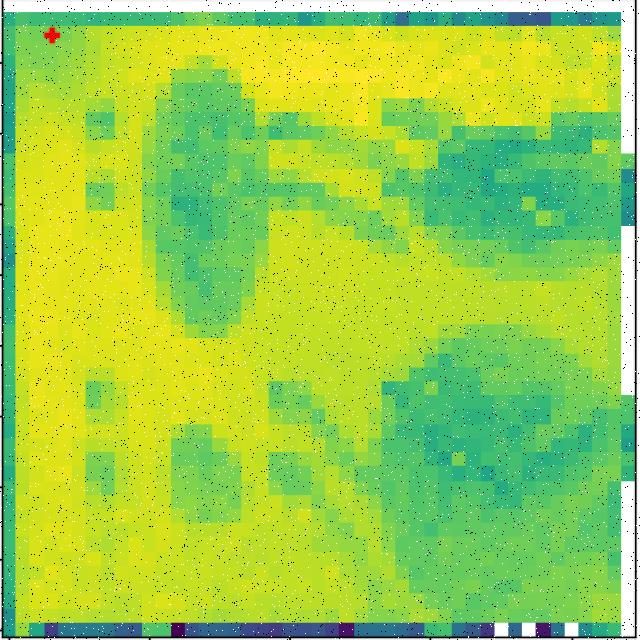Concrete: (442, 126, 592, 251)
Glass: (146, 66, 269, 335)
Metal: (384, 380, 590, 552)
Wood: (168, 424, 242, 526)
